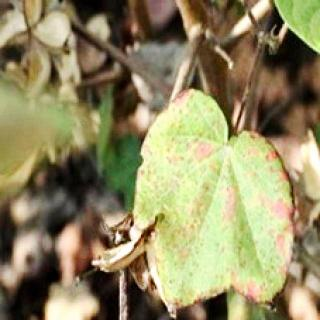leaf spot: (142, 86, 294, 310)
